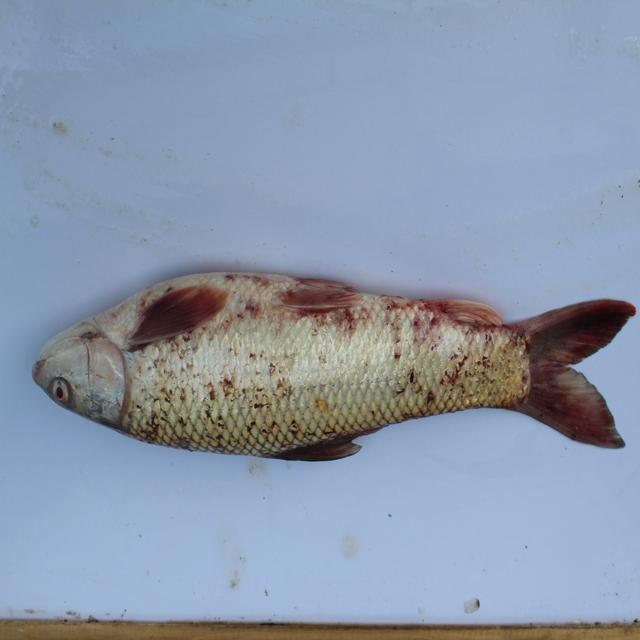Mori: (30, 275, 640, 473)
